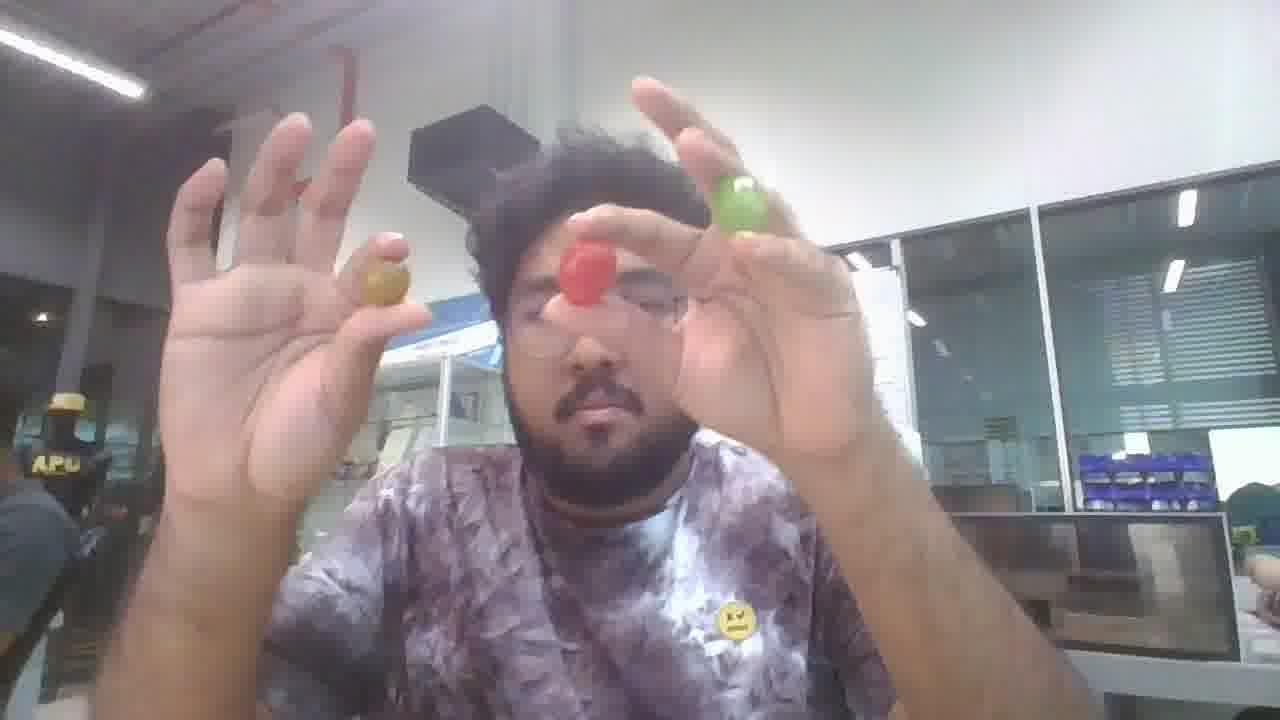green_cherry_tomato: (710, 175, 768, 233)
red_cherry_tomato: (558, 239, 616, 305)
yellow_cherry_tomato: (361, 260, 409, 304)
